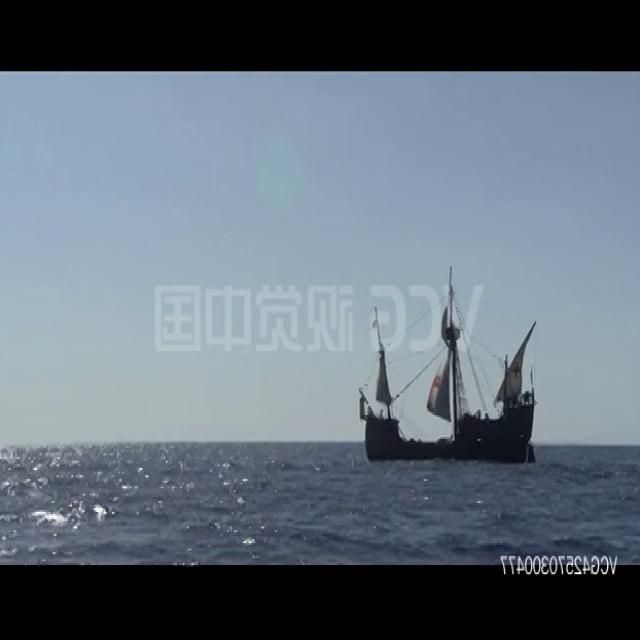sailboat: (359, 281, 546, 464)
